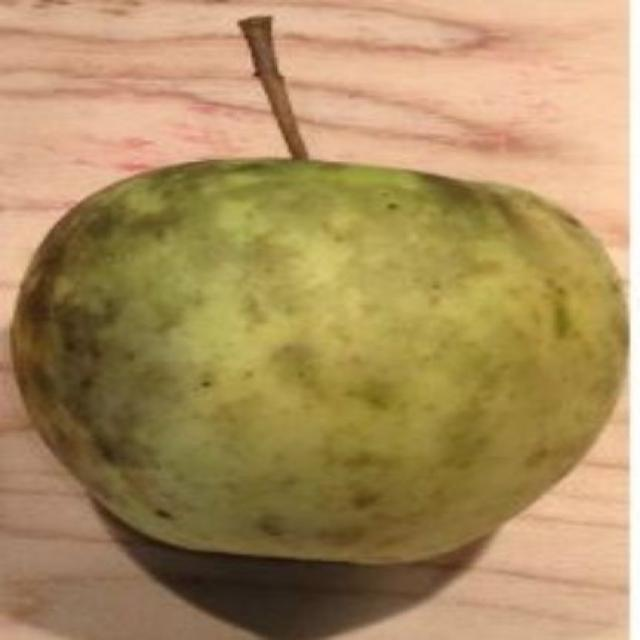Rotten Apple: (17, 131, 632, 584)
